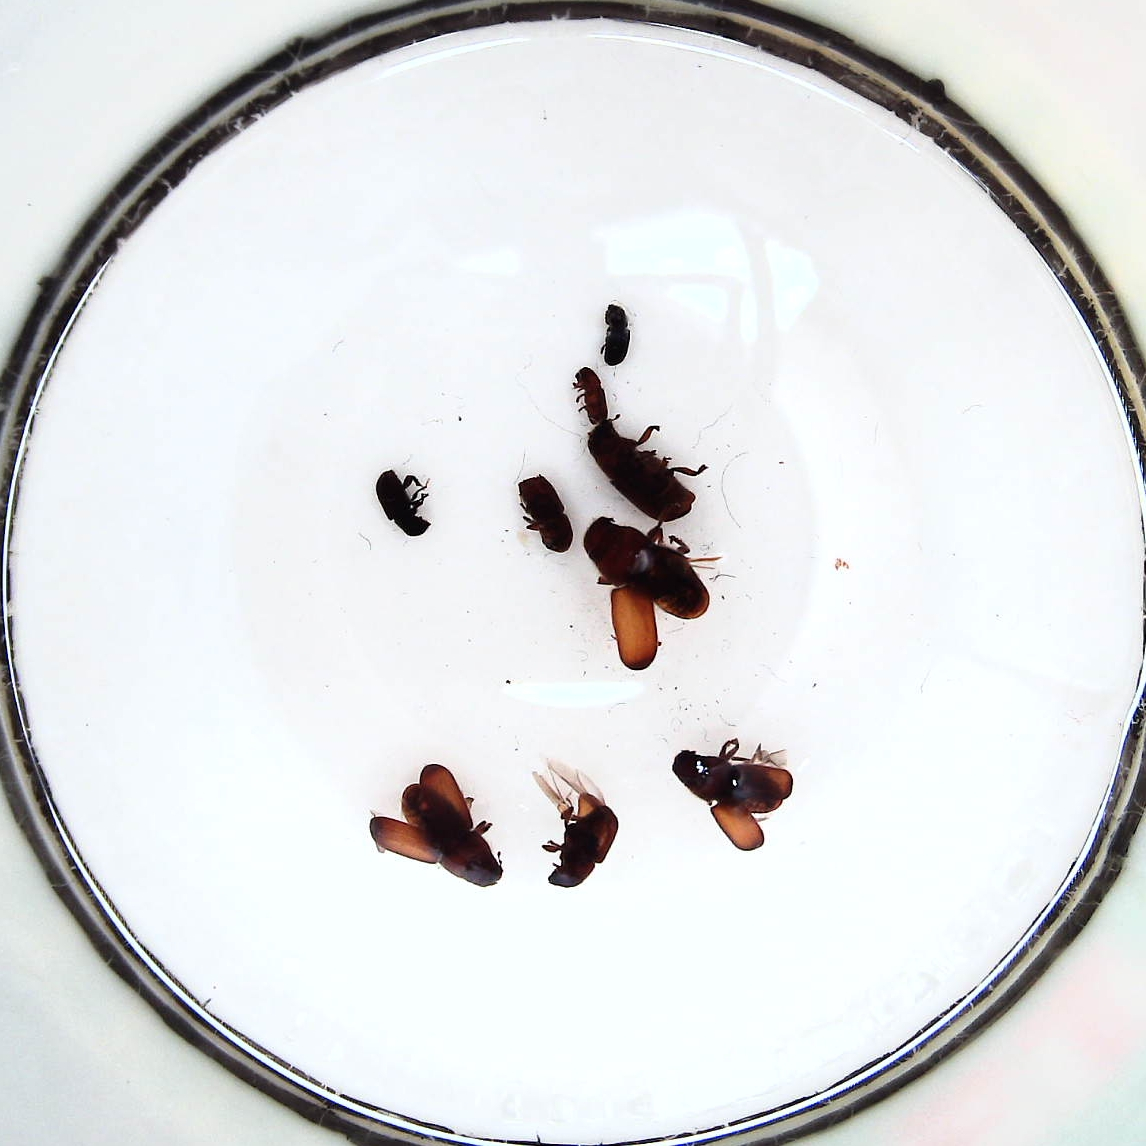Leconte: (582, 517, 724, 667), (369, 763, 507, 888), (671, 737, 792, 852), (586, 425, 709, 519), (537, 760, 620, 890)
Linnaeus: (512, 471, 576, 552)
acuminatus: (571, 367, 609, 427)
armandi: (369, 471, 436, 536)
coleoptera: (596, 303, 633, 369)
